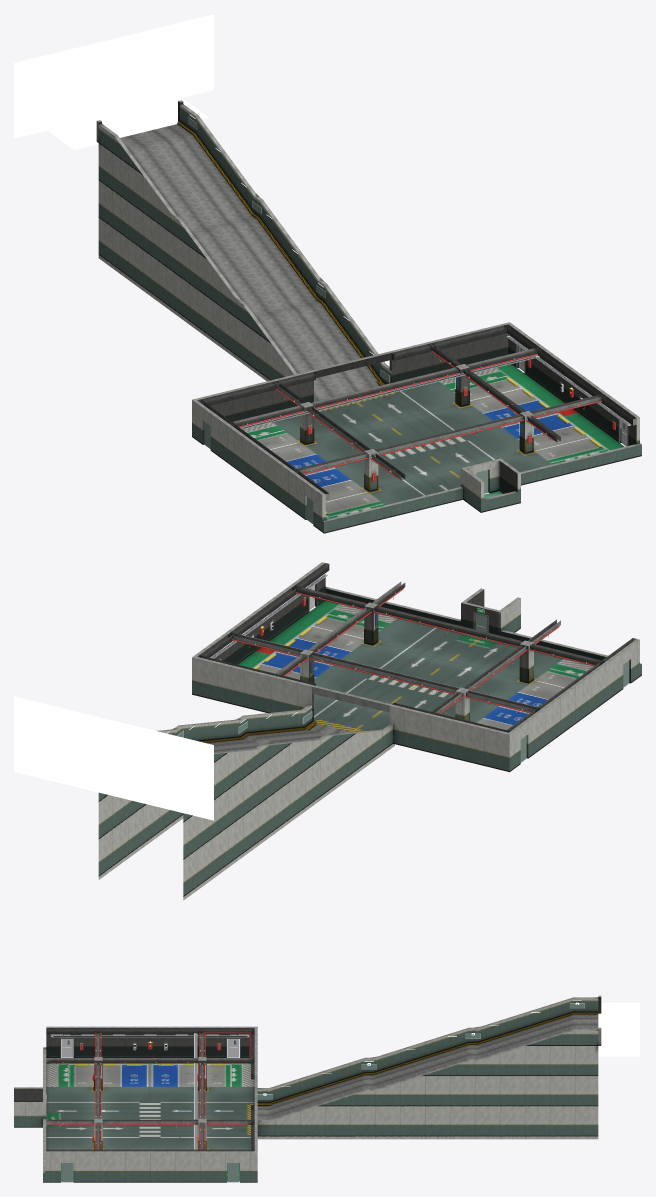
Rendered from lot.glb.
The picture shows the model from 3 angles, top to bottom: view 1: azimuth 30°, elevation 25°; view 2: azimuth 150°, elevation 25°; view 3: azimuth 270°, elevation 25°; orthographic projection. The views are drawn at different scales.
Visible parts, largest first — view 1: S_WallPaint, S_Floor, S_RampSurface, S_SkyGlow, S_Concrete, S_Daylight, S_Hazard, S_Galv, S_RedPipe, S_BlackPlastic; view 2: S_WallPaint, S_Floor, S_SkyGlow, S_Concrete, S_RampSurface, S_RedPipe, S_Galv, S_Hazard; view 3: S_WallPaint, S_Floor, S_Concrete, S_RampSurface, S_Daylight, S_RedPipe, S_Hazard, S_Galv, S_BlackPlastic.
Part boxes in pixels (left/top/right/bottom): S_WallPaint: left=98, top=105, right=641, bottom=533; S_Floor: left=240, top=362, right=624, bottom=519; S_RampSurface: left=120, top=124, right=379, bottom=401; S_SkyGlow: left=14, top=14, right=213, bottom=138; S_Concrete: left=96, top=100, right=641, bottom=521; S_Daylight: left=48, top=98, right=207, bottom=150; S_Hazard: left=177, top=122, right=533, bottom=491; S_Galv: left=240, top=336, right=631, bottom=472; S_RedPipe: left=239, top=350, right=601, bottom=478; S_BlackPlastic: left=241, top=337, right=628, bottom=428; S_WallPaint: left=98, top=563, right=641, bottom=900; S_Floor: left=238, top=600, right=593, bottom=732; S_SkyGlow: left=14, top=696, right=213, bottom=820; S_Concrete: left=157, top=562, right=641, bottom=754; S_RampSurface: left=207, top=723, right=352, bottom=752; S_RedPipe: left=232, top=588, right=594, bottom=713; S_Galv: left=211, top=574, right=586, bottom=710; S_Hazard: left=199, top=628, right=533, bottom=743; S_WallPaint: left=14, top=998, right=598, bottom=1182; S_Floor: left=46, top=1063, right=254, bottom=1181; S_Concrete: left=14, top=995, right=601, bottom=1173; S_RampSurface: left=257, top=1014, right=598, bottom=1119; S_Daylight: left=598, top=1002, right=639, bottom=1056; S_RedPipe: left=50, top=1032, right=250, bottom=1149; S_Hazard: left=94, top=1012, right=598, bottom=1149; S_Galv: left=51, top=1033, right=249, bottom=1149; S_BlackPlastic: left=53, top=1004, right=577, bottom=1149.
Size of the model in its own units: 28.6 by 16.3 by 60.3.
33 materials, 7 textured.
